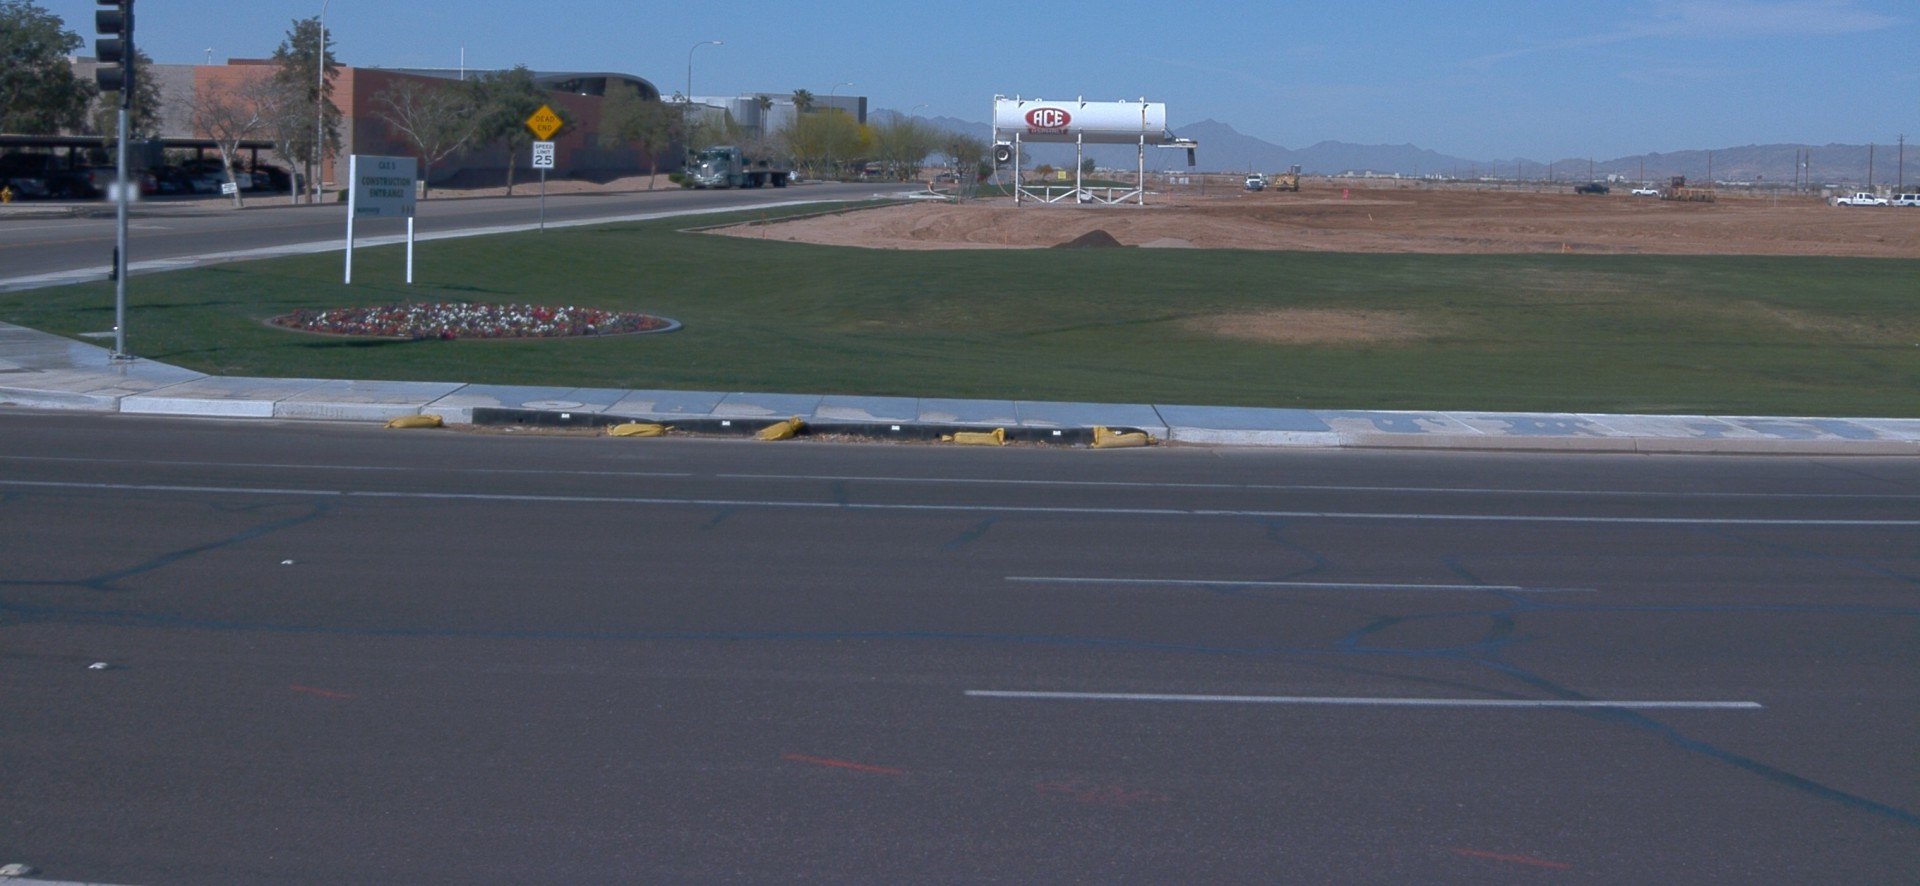TYPE_VEHICLE: (687, 143, 792, 193), (687, 143, 792, 193), (687, 143, 792, 193), (687, 143, 792, 193), (36, 151, 116, 198), (36, 151, 116, 198), (36, 151, 116, 198), (36, 151, 116, 198), (181, 155, 272, 193), (181, 155, 272, 193), (181, 155, 272, 193), (181, 155, 272, 193), (151, 165, 219, 199), (151, 165, 219, 199), (151, 165, 219, 199), (151, 165, 219, 199), (1656, 174, 1718, 202), (1656, 174, 1718, 202), (1656, 174, 1718, 202), (1656, 174, 1718, 202), (253, 164, 309, 195), (253, 164, 309, 195), (253, 164, 309, 195), (253, 164, 309, 195), (0, 176, 49, 201), (0, 176, 49, 201), (0, 176, 49, 201), (0, 176, 49, 201), (200, 169, 253, 190), (200, 169, 253, 190), (200, 169, 253, 190), (200, 169, 253, 190), (122, 168, 156, 198), (122, 168, 156, 198), (122, 168, 156, 198), (122, 168, 156, 198), (1836, 192, 1892, 208), (1836, 192, 1892, 208), (1836, 192, 1892, 208), (1836, 192, 1892, 208), (1277, 173, 1302, 193), (1277, 173, 1302, 193), (1277, 173, 1302, 193), (1277, 173, 1302, 193), (1243, 173, 1266, 192), (1243, 173, 1266, 192), (1243, 173, 1266, 192), (1243, 173, 1266, 192), (1892, 192, 1920, 208), (1892, 192, 1920, 208), (1892, 192, 1920, 208), (1892, 192, 1920, 208), (1571, 185, 1611, 195), (1571, 185, 1611, 195), (1571, 185, 1611, 195), (1571, 185, 1611, 195), (1630, 185, 1658, 196), (1630, 185, 1658, 196), (1630, 185, 1658, 196), (1630, 185, 1658, 196)
